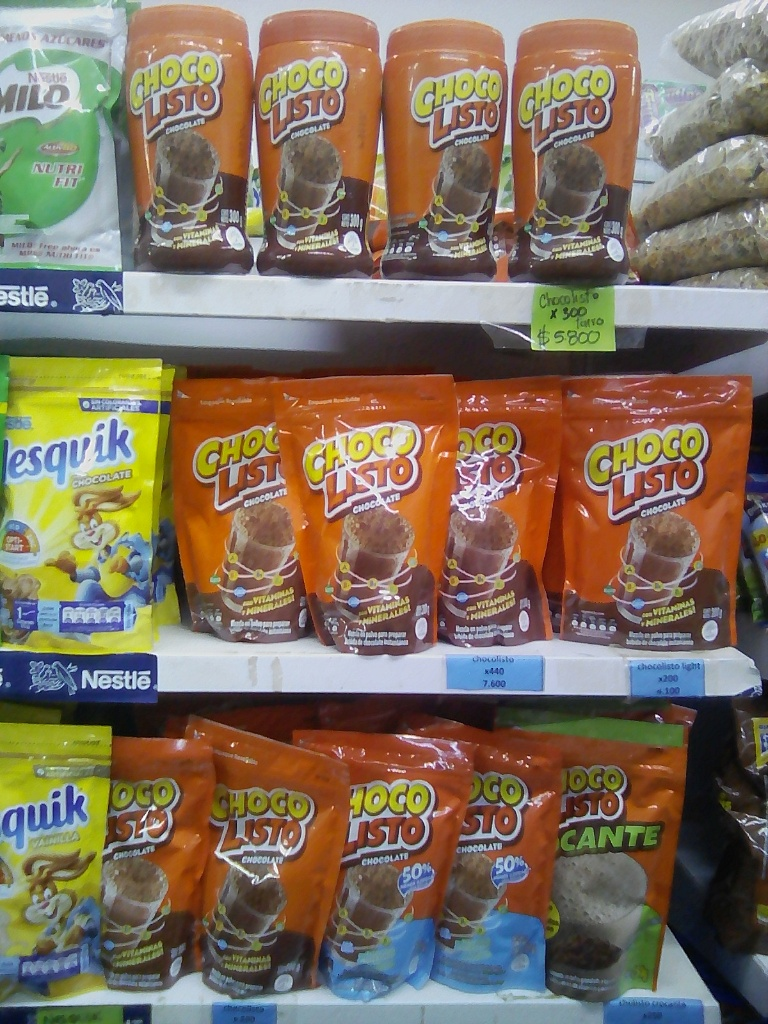COL0170104DYP20000: (311, 726, 447, 999)
COL0170205DYP50000: (0, 7, 128, 274)
COL0170303DYP20000: (5, 361, 179, 650)
COL0170306DYP20000: (1, 709, 111, 990)
